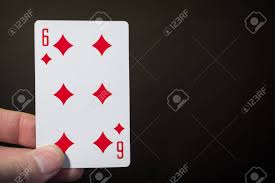six of diamonds: (34, 20, 130, 167)
